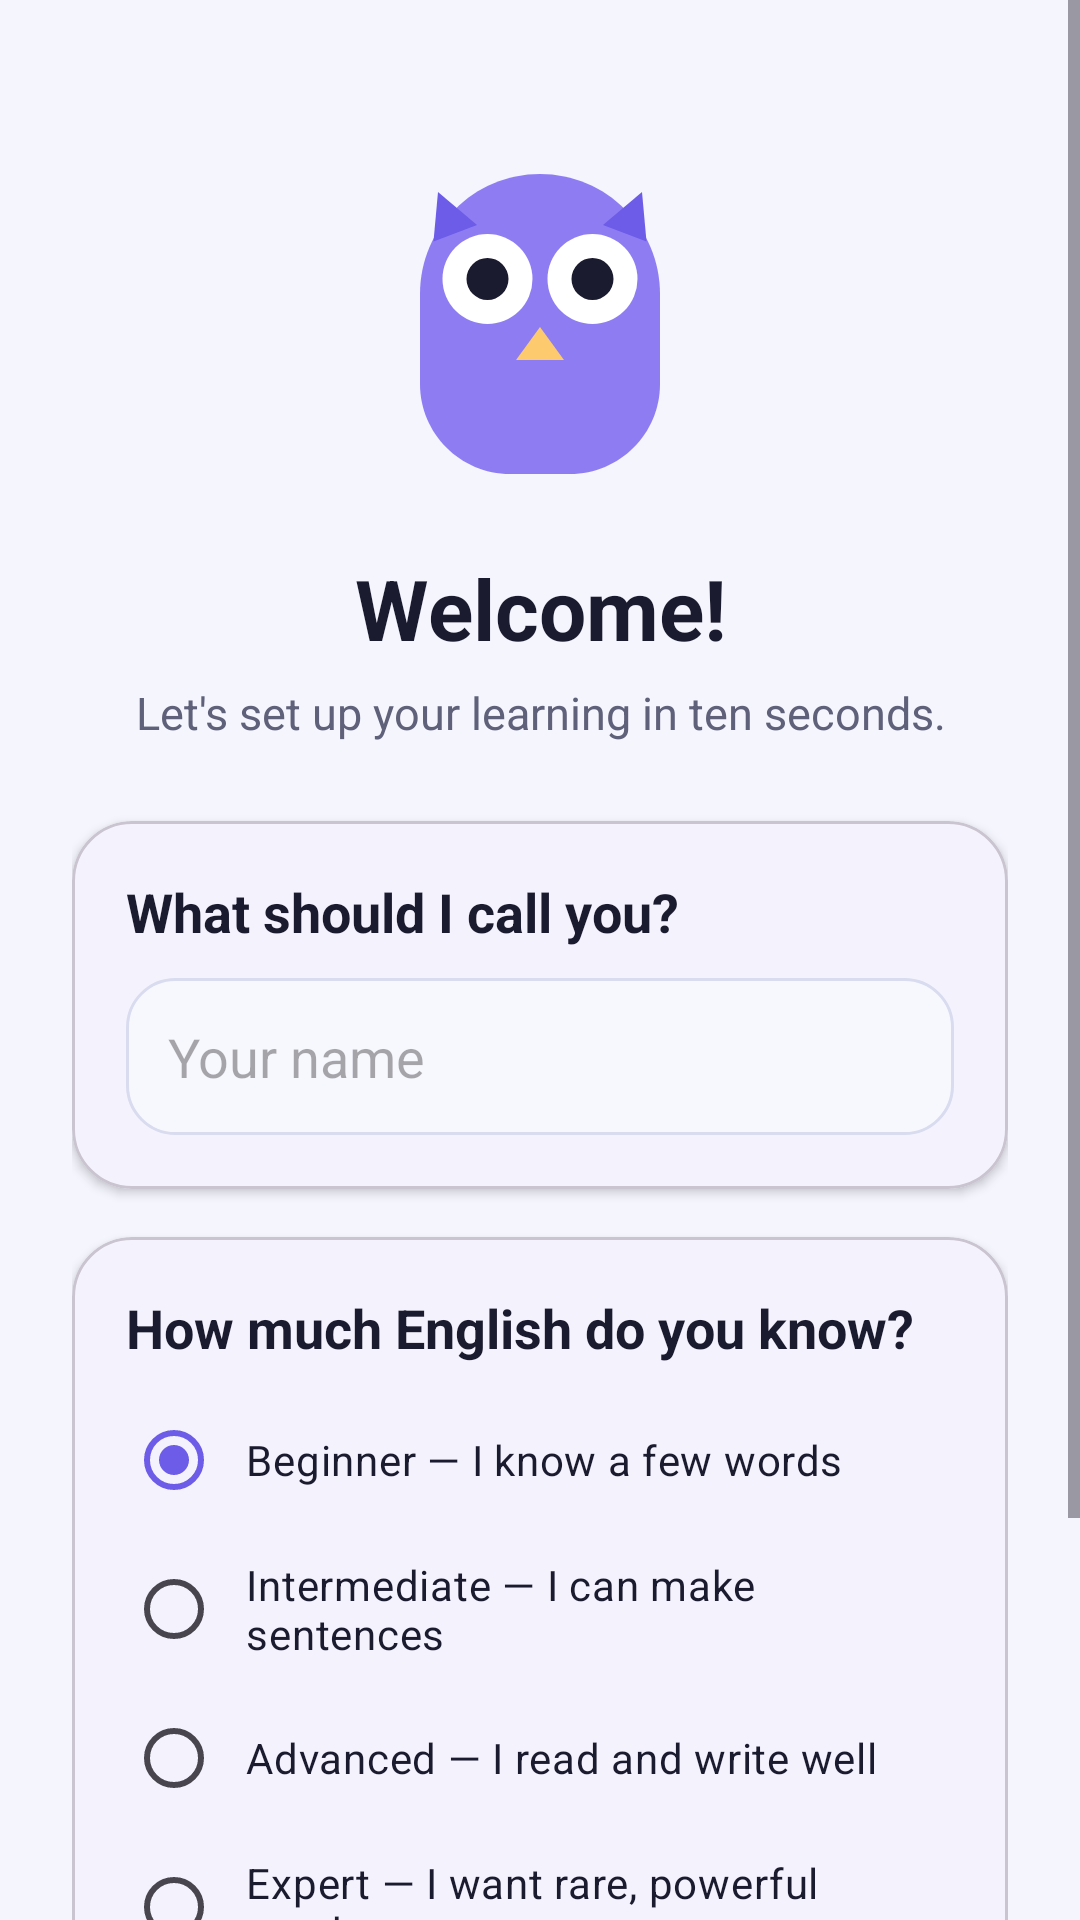

Named icons in this screenshot (1080×1920) and their bounding boxes, (x1, y1, x2, y2):
owl: (420, 174, 660, 474)
